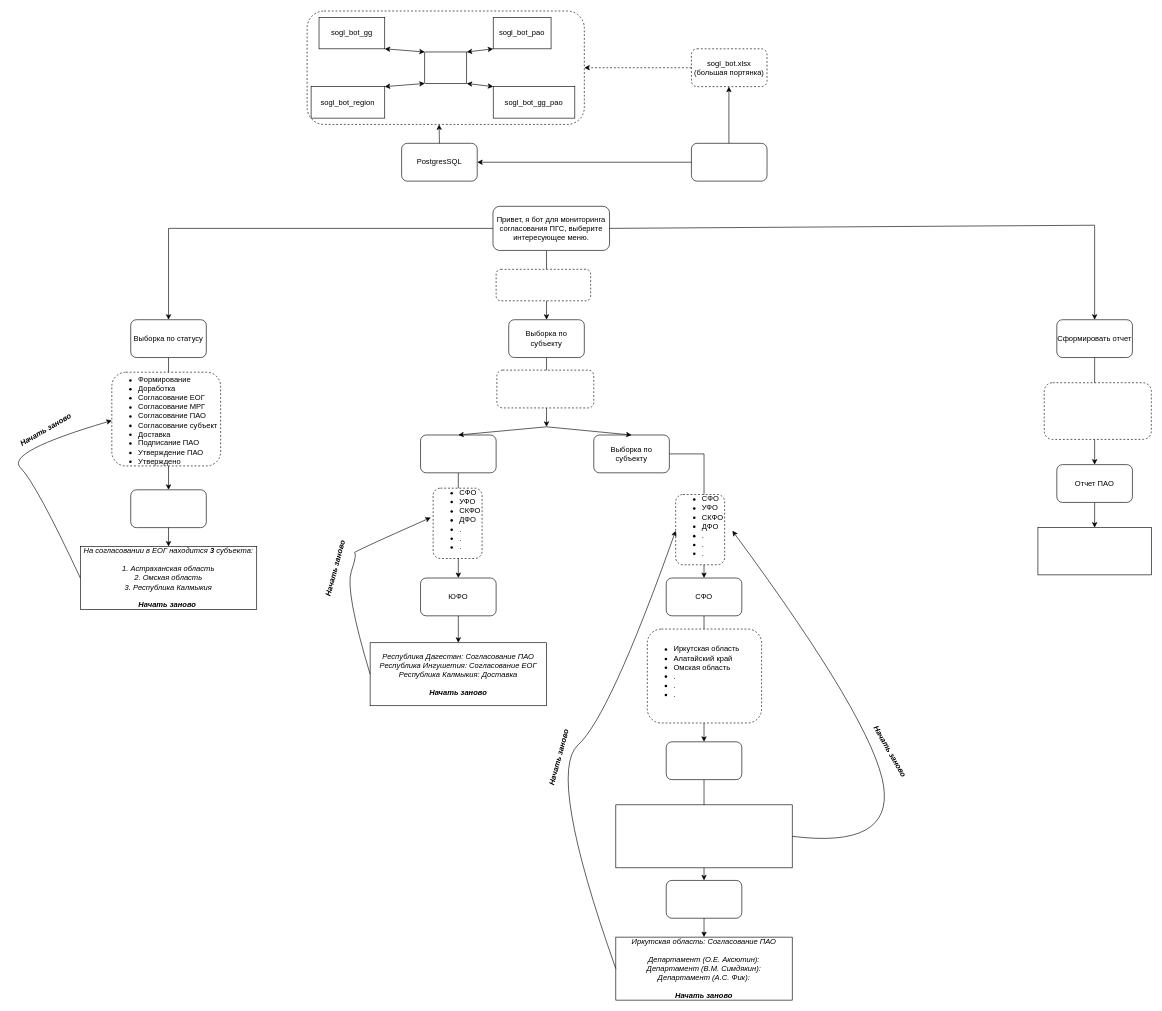
Some shapes in this 1162 by 1011 pixel diagram are drawn without their labels. Each missing label, with the centre of its shape:
".xlsx" belongs at point 729,162.
"sogl_bot" belongs at point 445,67.
"Вот .pdf по твоему запросу Начать заново" belongs at point 1094,551.
"Выборка по статусу Выборка по субъекту Сформировать отчет" belongs at point 543,285.
"Выборка по ФО" belongs at point 458,453.
"Выборка по ФО Выборка по субъекту" belongs at point 545,388.
"Иркутская область" belongs at point 704,760.
"Иркутская область: Согласование ПАО Узнать подробнее Начать заново" belongs at point 703,836.
"Отчет ГГ Отчет ПАО Отчет ГГ + ПАО Субъект" belongs at point 1097,410.
"Согласование ЕОГ" belongs at point 168,508.
"Узнать подробнее" belongs at point 704,899.
